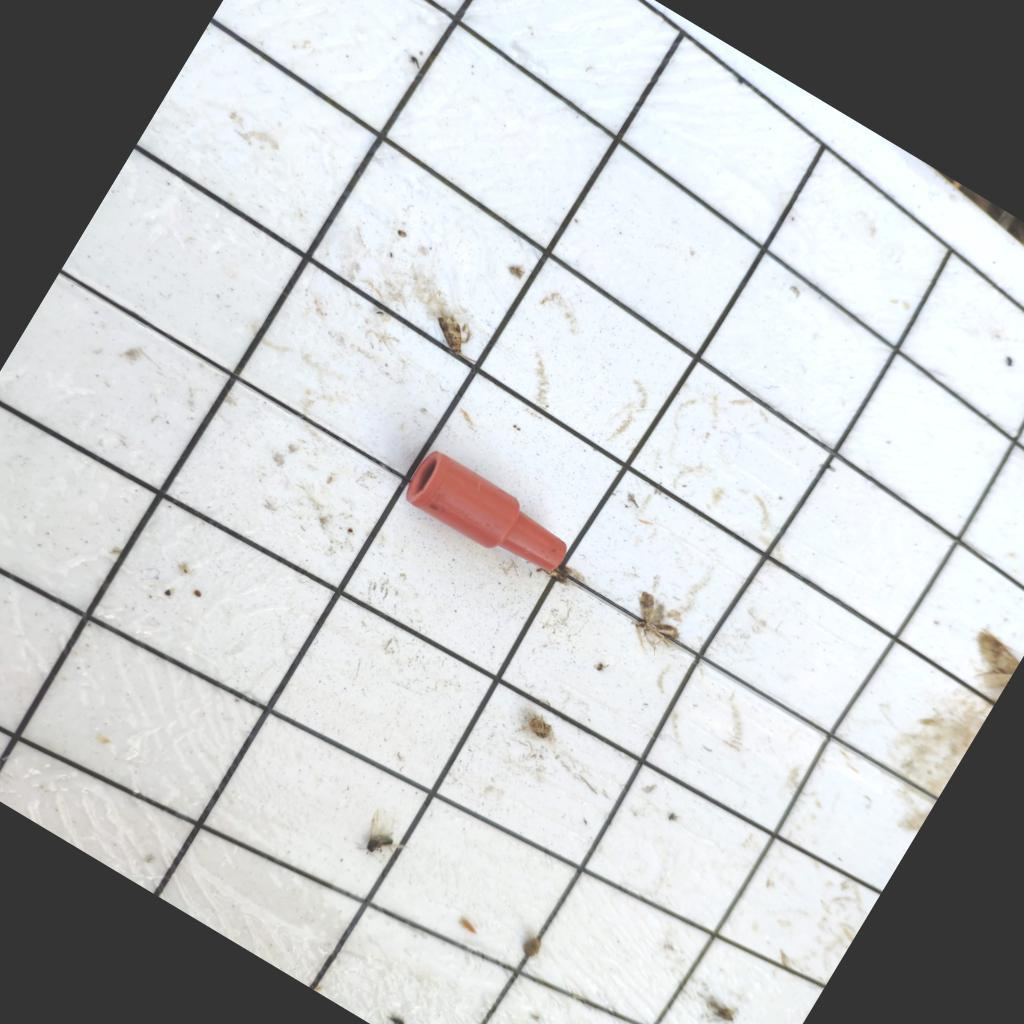grape_moth: (625, 586, 686, 661), (431, 303, 478, 368), (512, 704, 560, 749), (537, 556, 580, 593), (512, 926, 546, 961)
